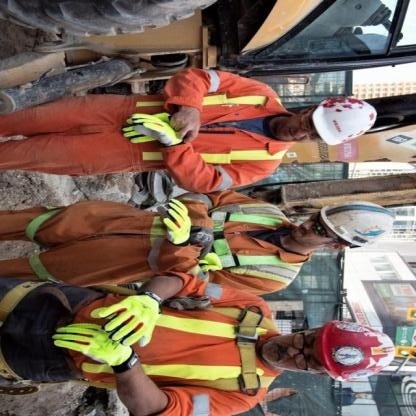red: (312, 317, 400, 384)
vest: (25, 65, 293, 190), (73, 278, 284, 416), (37, 201, 313, 302)
white: (314, 196, 400, 253), (310, 93, 380, 148)
